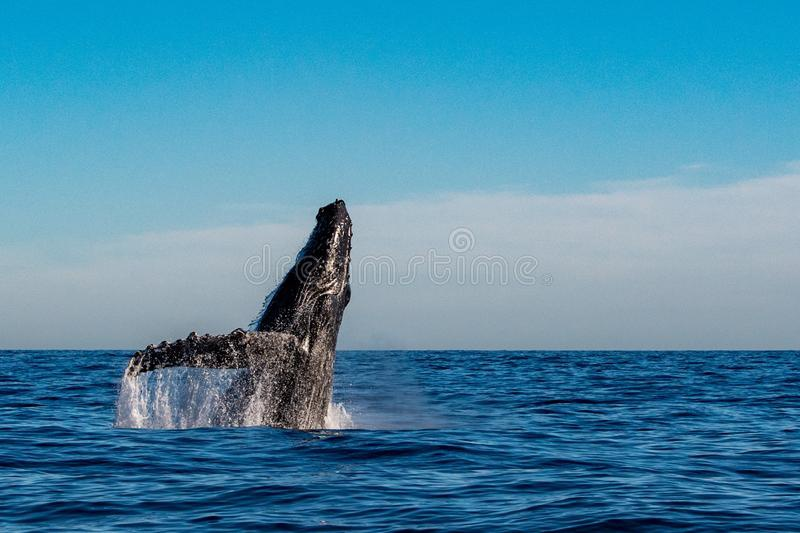humpback: (246, 194, 355, 431)
